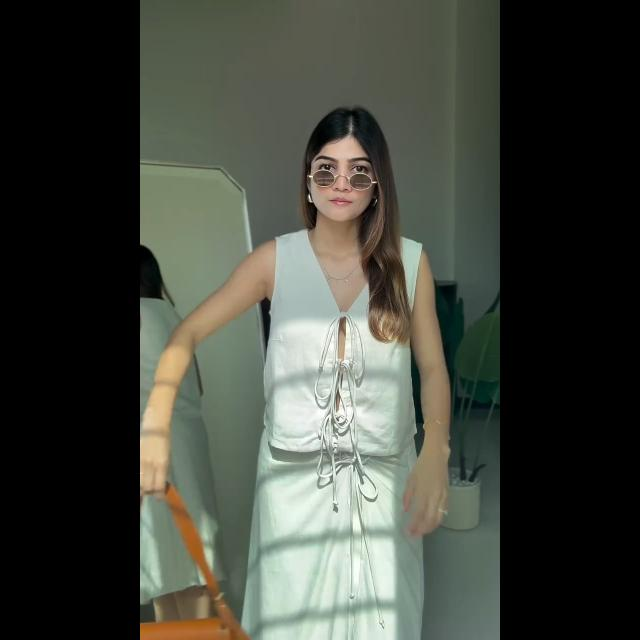dress: (263, 232, 419, 640)
glasses: (312, 170, 374, 192)
